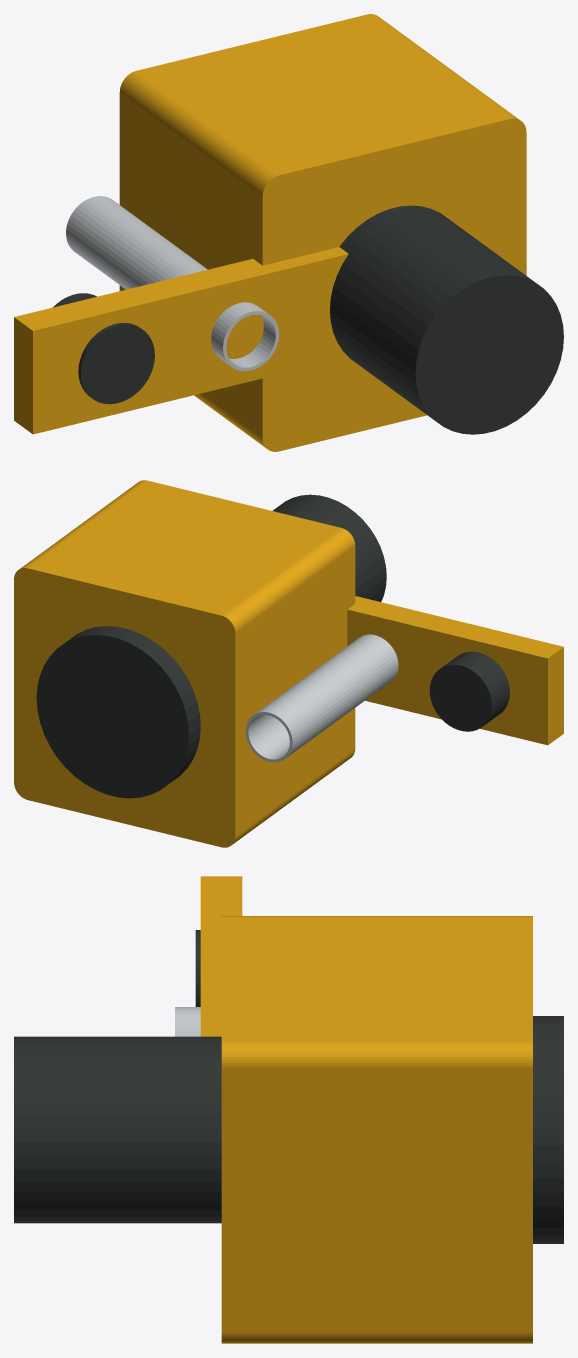
File: carriage_link.obj
3 renders of one model, top to bottom at view 1: azimuth 30°, elevation 25°; view 2: azimuth 150°, elevation 25°; view 3: azimuth 270°, elevation 25°, orthographic. The views are drawn at different scales.
Parts seen in each view (by area): view 1: carriage_0, motor_1, carousel_arm_3, chute_4, carousel_motor_5; view 2: carriage_0, turret_drive_2, carousel_arm_3, chute_4, carousel_motor_5, motor_1; view 3: carriage_0, motor_1, turret_drive_2, carousel_arm_3, chute_4.
Boxes of the visible parts, x1,y1,x2,y2 form: carriage_0: [119, 14, 526, 451]; motor_1: [330, 205, 563, 434]; carousel_arm_3: [14, 247, 348, 434]; chute_4: [66, 196, 278, 371]; carousel_motor_5: [53, 293, 154, 404]; carriage_0: [14, 480, 355, 847]; turret_drive_2: [36, 626, 200, 798]; carousel_arm_3: [347, 596, 563, 745]; chute_4: [245, 634, 398, 762]; carousel_motor_5: [429, 651, 509, 731]; motor_1: [272, 494, 386, 601]; carriage_0: [221, 916, 532, 1343]; motor_1: [14, 1036, 221, 1223]; turret_drive_2: [533, 1016, 563, 1243]; carousel_arm_3: [200, 876, 242, 1036]; chute_4: [175, 1007, 200, 1036].
Size of the model in its own units: 0.61 by 0.32 by 0.53.
